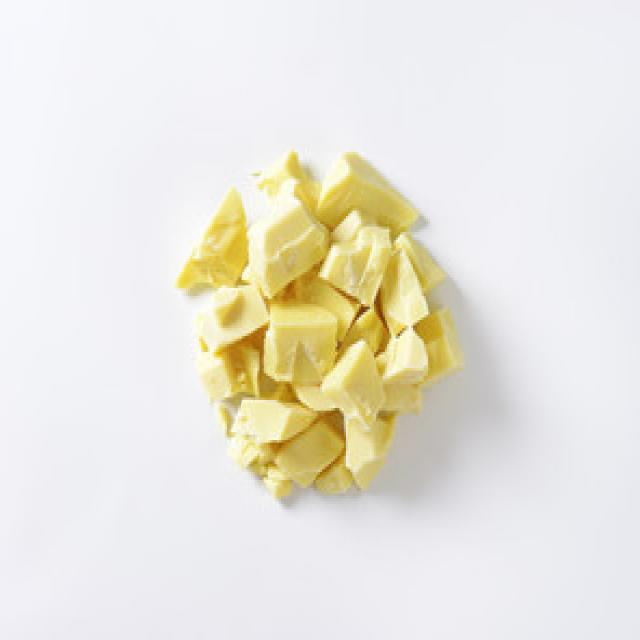chocolate: (190, 145, 460, 514)
